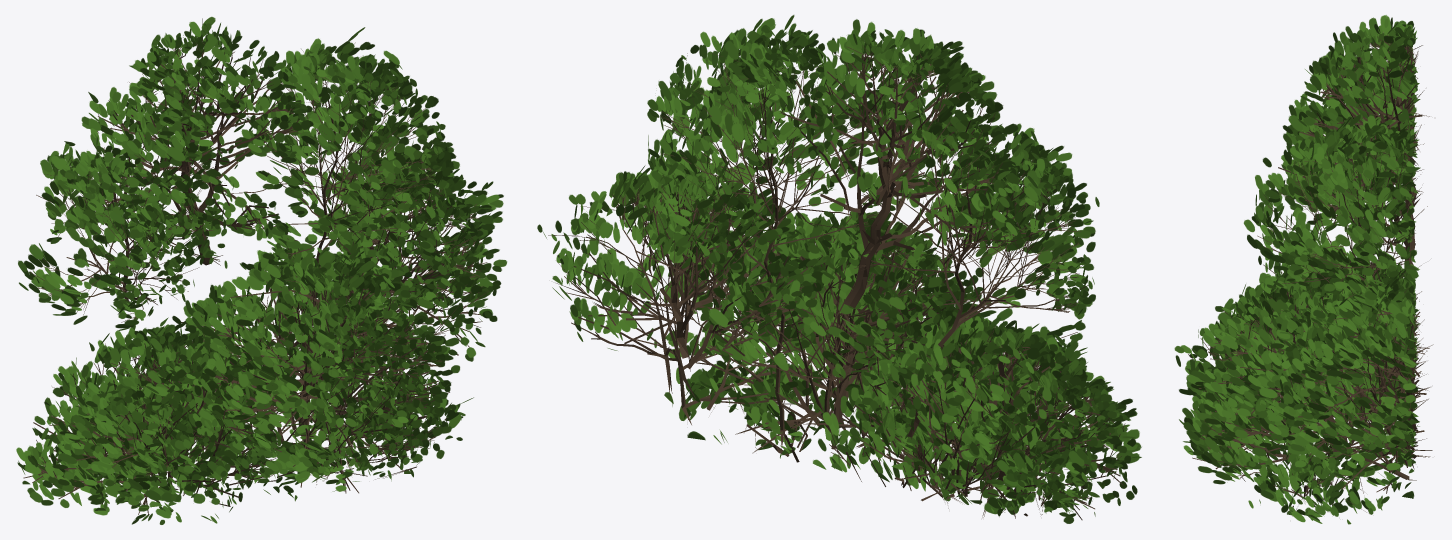
3 views of the same model, side by side, from view 1: azimuth 30°, elevation 25°; view 2: azimuth 150°, elevation 25°; view 3: azimuth 270°, elevation 25° (orthographic). The views are drawn at different scales.
Visible parts, largest first — view 1: oak 01.001_trunk_Mat.001_0.504; view 2: oak 01.001_trunk_Mat.001_0.504; view 3: oak 01.001_trunk_Mat.001_0.504.
Boxes of the visible parts, bbox=[...] form: oak 01.001_trunk_Mat.001_0.504: bbox=[16, 16, 507, 524]; oak 01.001_trunk_Mat.001_0.504: bbox=[537, 15, 1141, 523]; oak 01.001_trunk_Mat.001_0.504: bbox=[1174, 15, 1433, 524].
Size of the model in its own units: 3.9 by 3.17 by 1.81.
2 materials, 1 textured.
